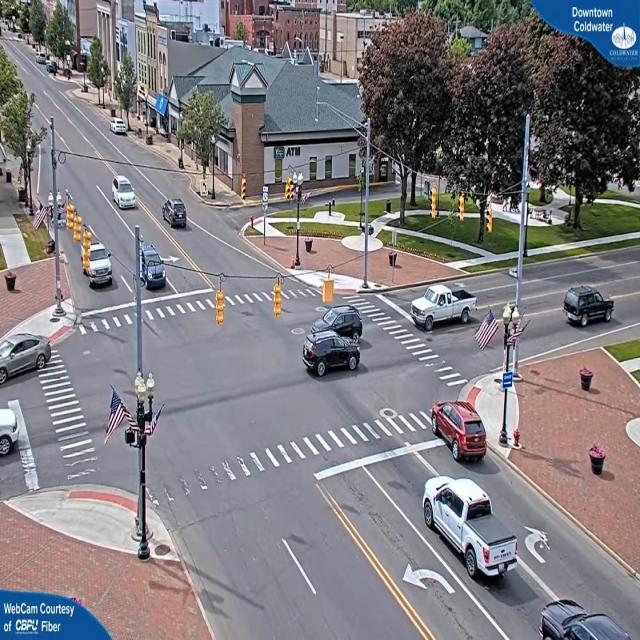car: (422, 476, 514, 584), (538, 601, 639, 639), (433, 401, 489, 464), (412, 283, 477, 331), (300, 328, 361, 378), (0, 334, 50, 387), (562, 286, 614, 329), (82, 241, 114, 289), (136, 243, 166, 289), (320, 306, 364, 335), (1, 407, 22, 458), (111, 176, 139, 211), (162, 199, 190, 231), (111, 119, 129, 136)
